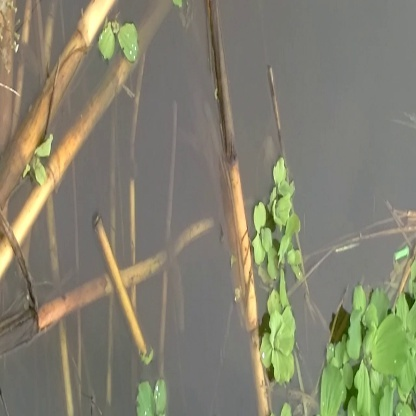branch: (26, 208, 223, 330)
